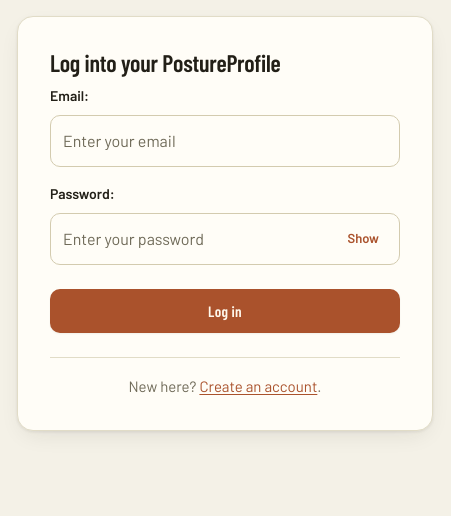
Test: Login › submits on Enter, not only on the button
In the field labelled "Email:": (225, 141) [50,115,400,167], type "nobody@example.com"
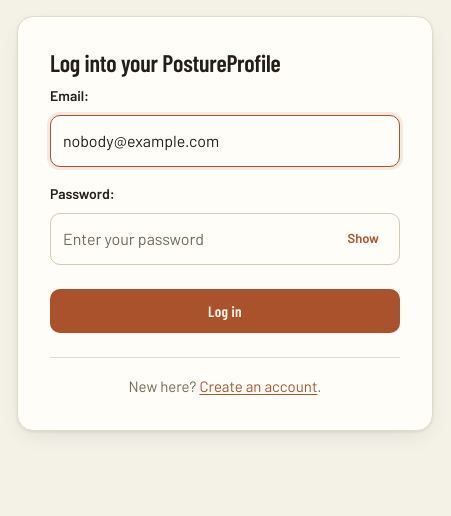
In the password field labelled "Password:": (225, 239) [50,213,400,265], type "wrong"
Then press Enter
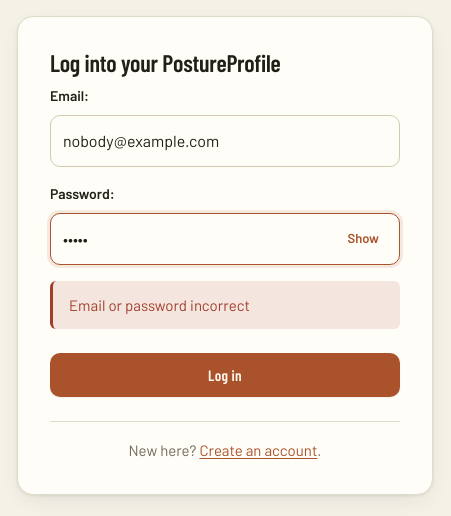
Check: the message "Email or password incorrect" is shown, box [50,281,400,329]
